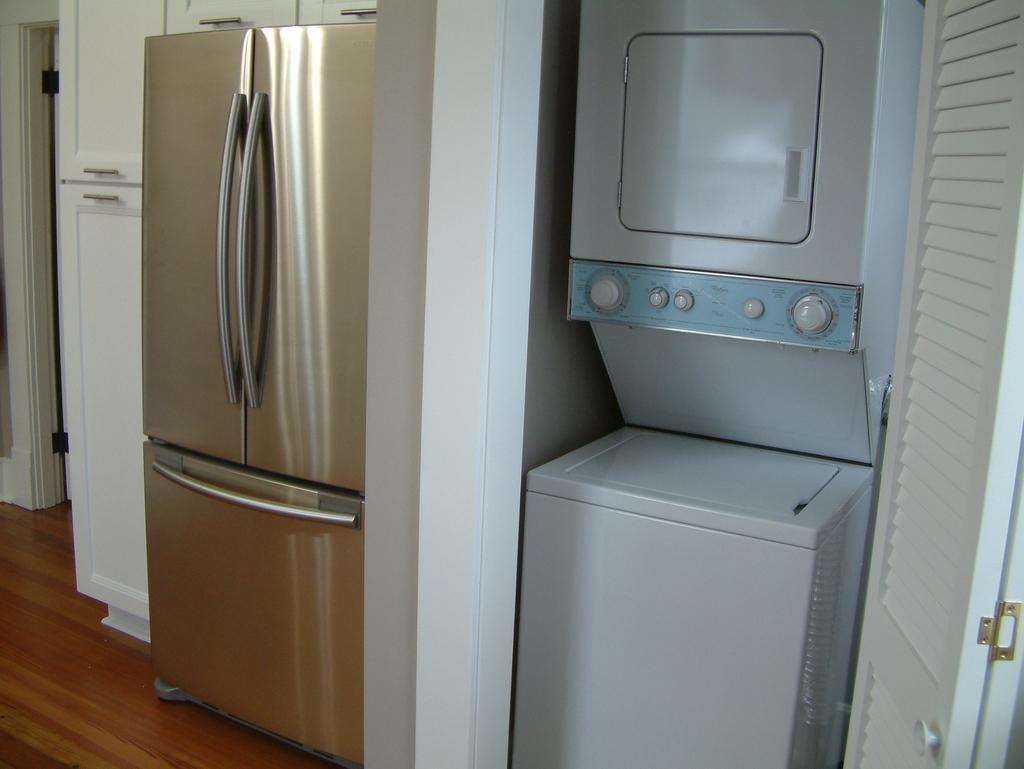cabinet_door: (63, 190, 153, 588), (68, 19, 148, 182)
handle: (163, 460, 351, 536), (230, 89, 272, 393), (214, 100, 240, 382), (914, 708, 944, 755), (84, 194, 125, 210), (75, 166, 124, 176)
